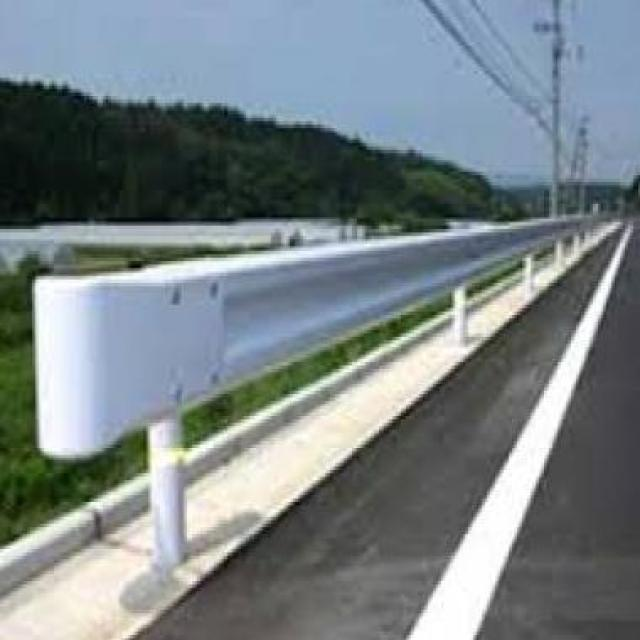Guard rail: (28, 197, 609, 600)
